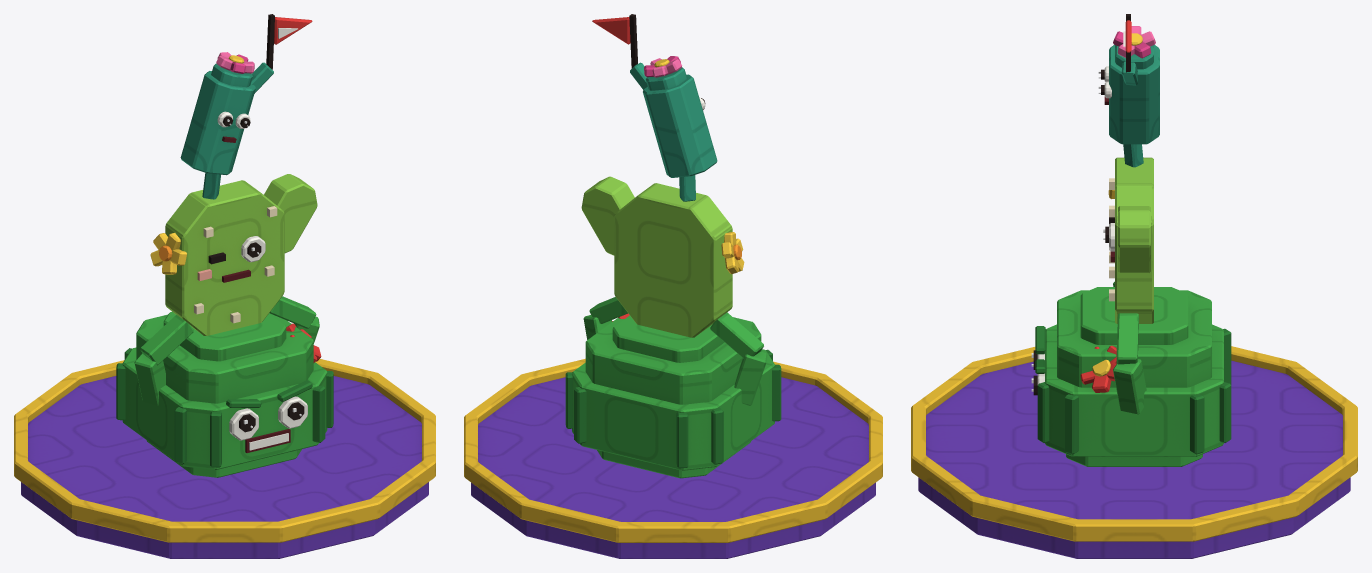
The model's file is CactusAcrobats.fbx.
3 renders of one model, left to right at view 1: azimuth 30°, elevation 25°; view 2: azimuth 150°, elevation 25°; view 3: azimuth 270°, elevation 25°, orthographic. The views are drawn at different scales.
Parts seen in each view (by area): view 1: Art_CactusAcrobats_Stand, Art_CactusAcrobats_Base, Art_CactusAcrobats_Mid, Art_CactusAcrobats_Top, Art_CactusAcrobats_MidArm, Art_CactusAcrobats_BaseArmL, Art_CactusAcrobats_TopArm, Art_CactusAcrobats_BaseArmR; view 2: Art_CactusAcrobats_Stand, Art_CactusAcrobats_Base, Art_CactusAcrobats_Mid, Art_CactusAcrobats_Top, Art_CactusAcrobats_MidArm, Art_CactusAcrobats_BaseArmL, Art_CactusAcrobats_TopArm, Art_CactusAcrobats_BaseArmR; view 3: Art_CactusAcrobats_Stand, Art_CactusAcrobats_Base, Art_CactusAcrobats_Top, Art_CactusAcrobats_Mid, Art_CactusAcrobats_BaseArmR, Art_CactusAcrobats_MidArm, Art_CactusAcrobats_TopArm.
Part boxes in pixels (bbox=[...]): Art_CactusAcrobats_Stand: bbox=[14, 359, 435, 558]; Art_CactusAcrobats_Base: bbox=[116, 312, 333, 477]; Art_CactusAcrobats_Mid: bbox=[165, 180, 284, 335]; Art_CactusAcrobats_Top: bbox=[180, 52, 255, 199]; Art_CactusAcrobats_MidArm: bbox=[150, 174, 317, 274]; Art_CactusAcrobats_BaseArmL: bbox=[134, 314, 193, 405]; Art_CactusAcrobats_TopArm: bbox=[250, 14, 312, 93]; Art_CactusAcrobats_BaseArmR: bbox=[269, 296, 319, 343]; Art_CactusAcrobats_Stand: bbox=[464, 358, 882, 558]; Art_CactusAcrobats_Base: bbox=[565, 313, 781, 478]; Art_CactusAcrobats_Mid: bbox=[614, 183, 732, 337]; Art_CactusAcrobats_Top: bbox=[643, 56, 717, 201]; Art_CactusAcrobats_MidArm: bbox=[581, 176, 744, 274]; Art_CactusAcrobats_BaseArmL: bbox=[710, 312, 767, 405]; Art_CactusAcrobats_TopArm: bbox=[592, 14, 647, 89]; Art_CactusAcrobats_BaseArmR: bbox=[583, 297, 627, 339]; Art_CactusAcrobats_Stand: bbox=[911, 346, 1357, 558]; Art_CactusAcrobats_Base: bbox=[1031, 287, 1231, 466]; Art_CactusAcrobats_Top: bbox=[1098, 26, 1159, 167]; Art_CactusAcrobats_Mid: bbox=[1103, 157, 1153, 323]; Art_CactusAcrobats_BaseArmR: bbox=[1113, 313, 1146, 414]; Art_CactusAcrobats_MidArm: bbox=[1108, 190, 1150, 273]; Art_CactusAcrobats_TopArm: bbox=[1121, 14, 1137, 85].
Bounding box in the file's own units: 2.99 × 3.52 × 2.99.
